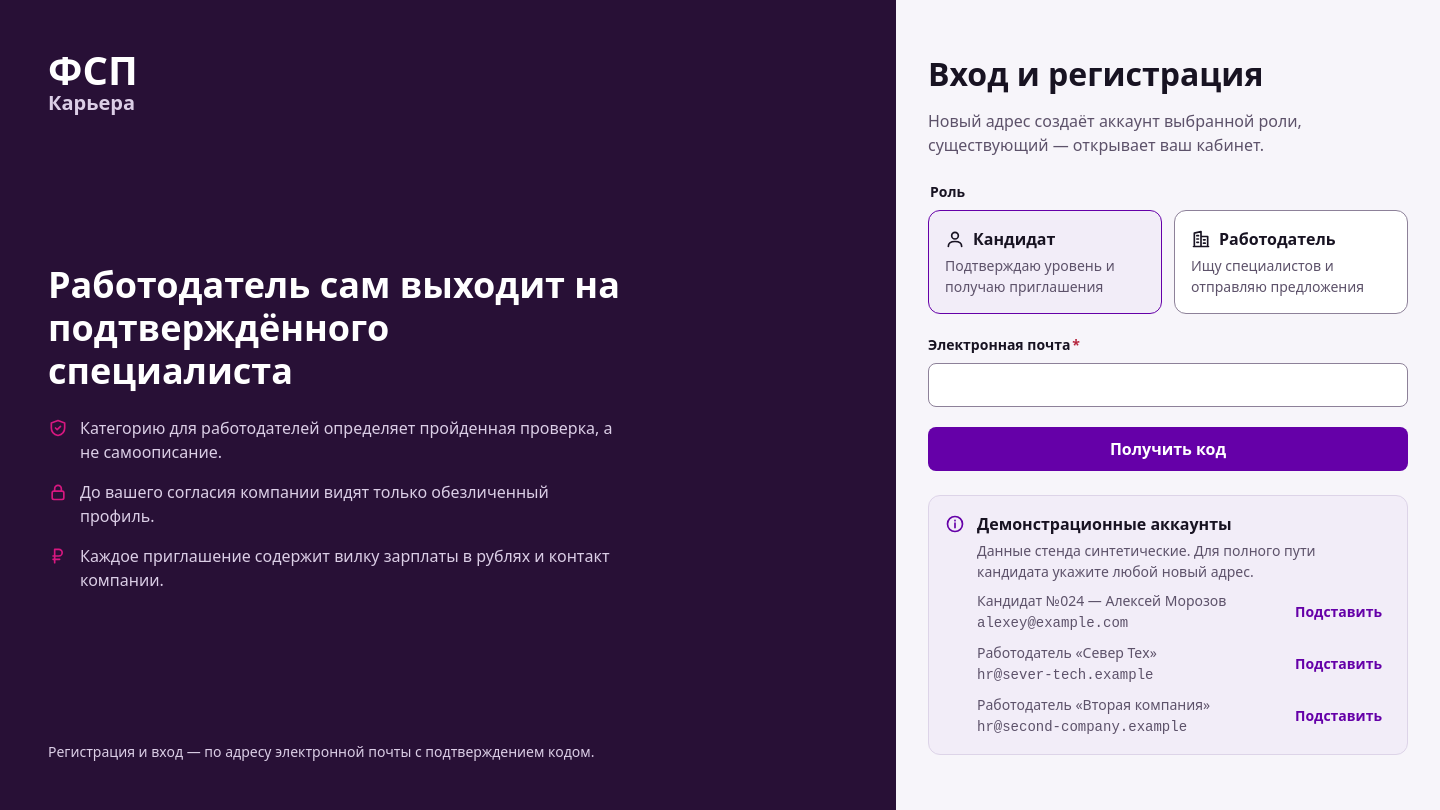
it: email sign-in › validates the address before contacting the server
Type "not-an-email" into the field labelled "Электронная почта*" at coordinates (1168, 385), box [928,363,1408,407]
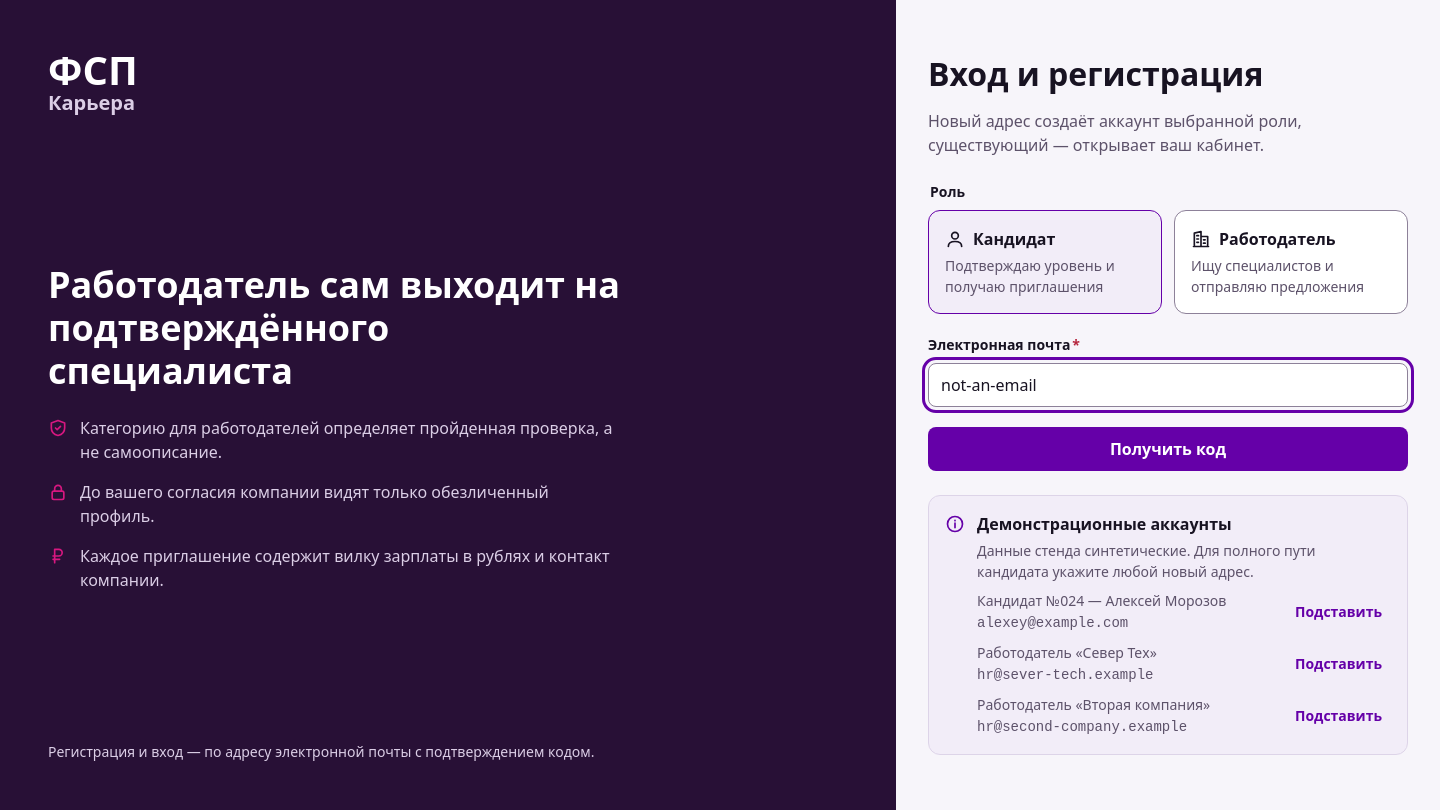
Click the button "Получить код" at coordinates (1168, 449), box [928,427,1408,471]
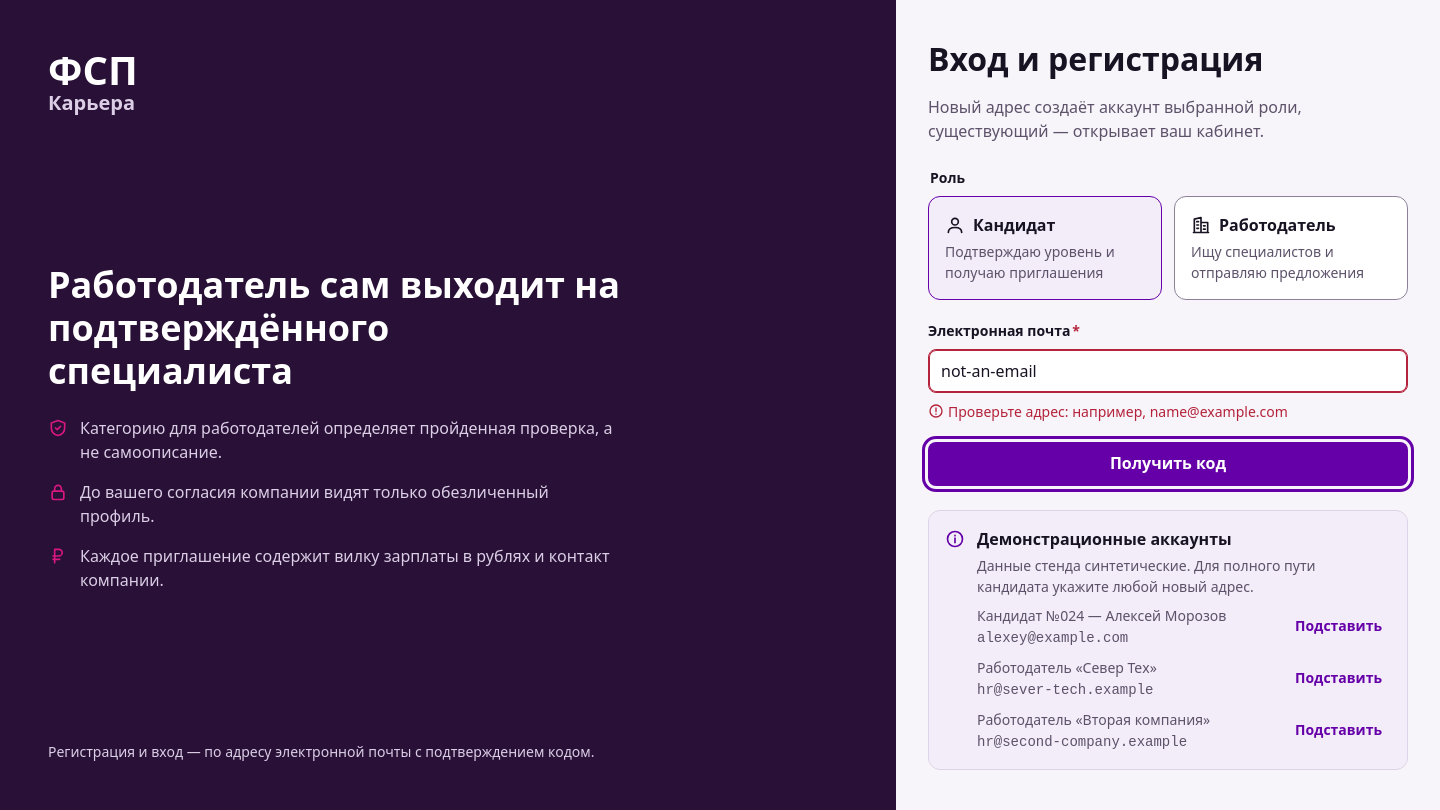
Now the text "Проверьте адрес: например, name@example.com" is shown, box [928,402,1288,421]
